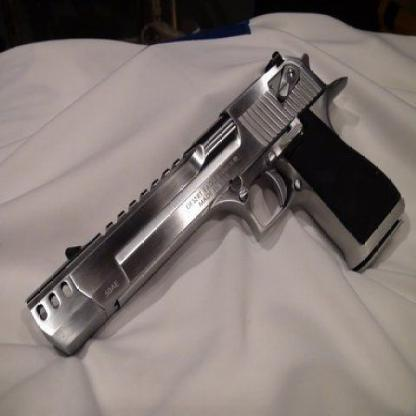Pistol: (25, 47, 407, 356)
